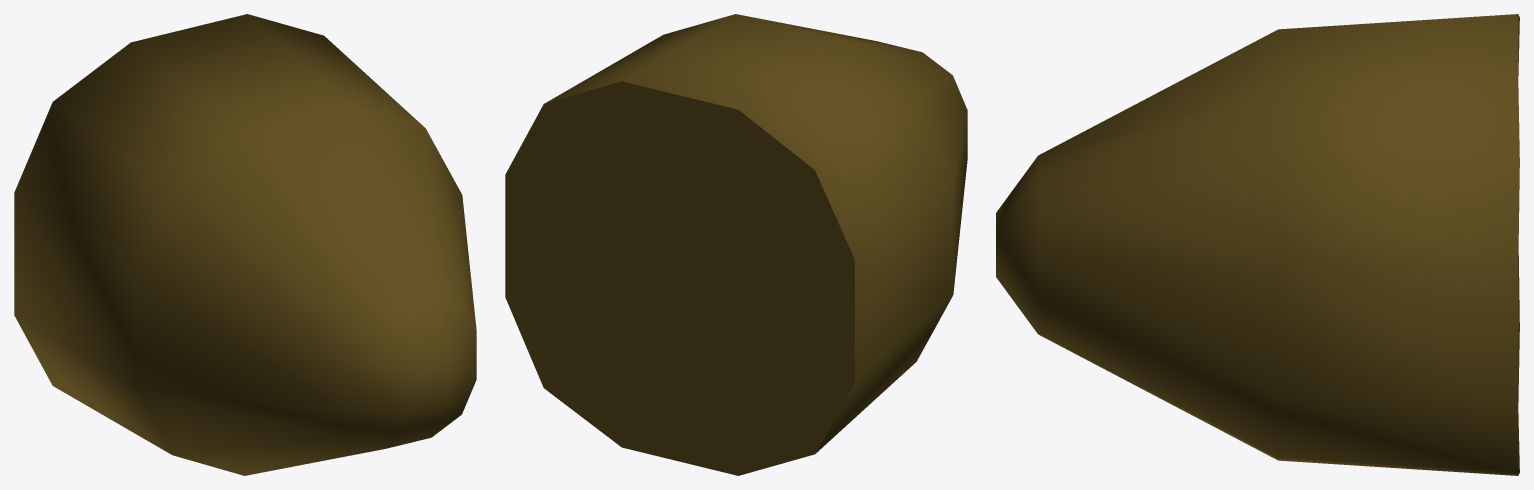
The model's file is Revolver Projectile.fbx.
3 renders of one model, left to right at view 1: azimuth 30°, elevation 25°; view 2: azimuth 150°, elevation 25°; view 3: azimuth 270°, elevation 25°, orthographic. The views are drawn at different scales.
Visible parts, largest first — view 1: Cube; view 2: Cube; view 3: Cube.
Part boxes in pixels (<box>): Cube: <box>14,14,476,475</box>; Cube: <box>505,14,967,475</box>; Cube: <box>996,14,1519,475</box>.
Bounding box in the file's own units: 214 × 214 × 254.
